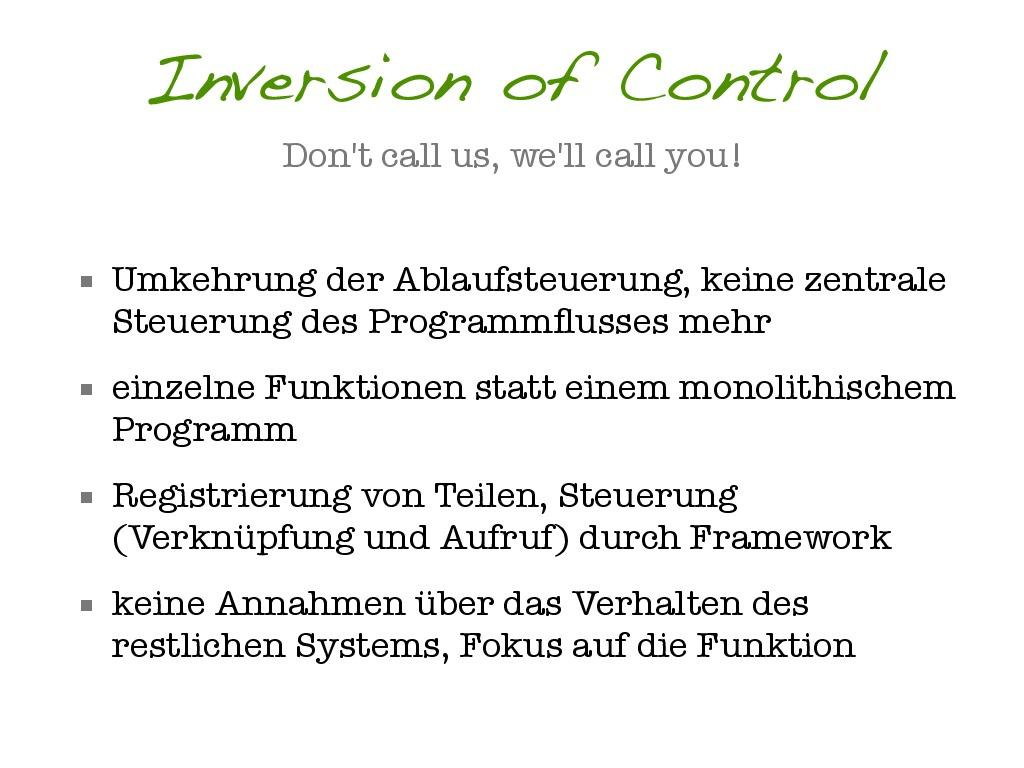paragraph: (81, 243, 981, 705)
title: (126, 26, 920, 126)
